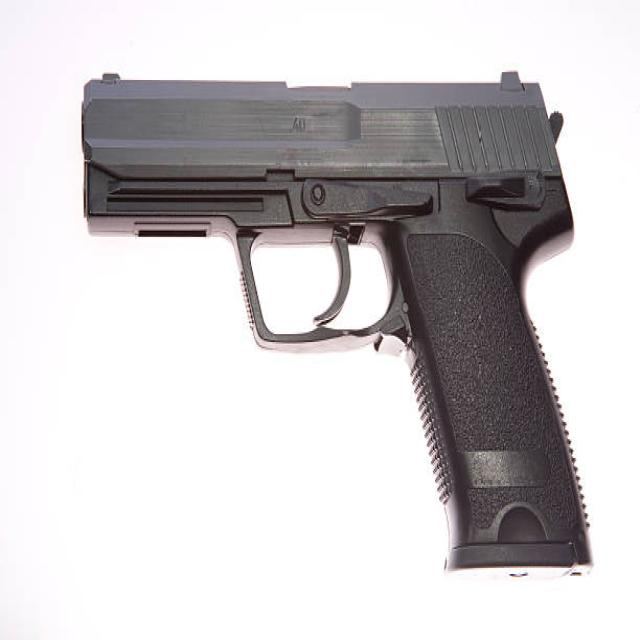pistol: (79, 56, 605, 588)
